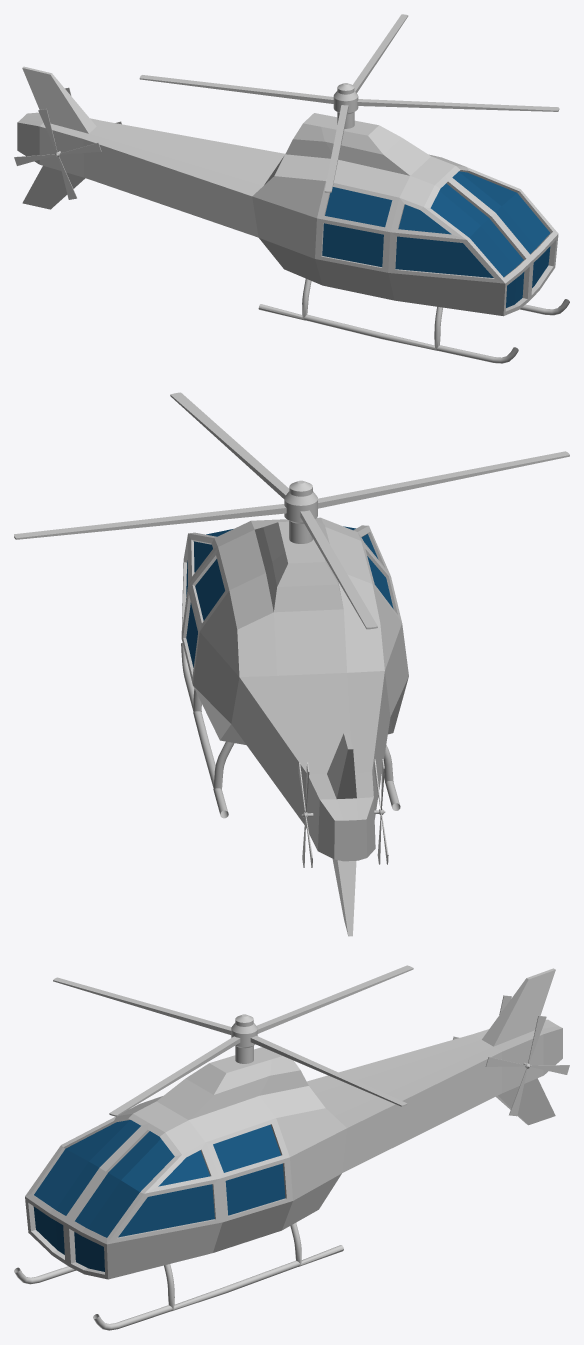
File: helicopter_animation_000100.obj
3 views of the same model, one above another, from view 1: azimuth 30°, elevation 25°; view 2: azimuth 150°, elevation 25°; view 3: azimuth 270°, elevation 25° (orthographic). The views are drawn at different scales.
Visible parts, largest first — view 1: Helicopter.007_Cylinder.008, Helicopter.001_Cylinder.001, Helicopter.004_Cylinder.005; view 2: Helicopter.007_Cylinder.008, Helicopter.001_Cylinder.001; view 3: Helicopter.007_Cylinder.008, Helicopter.001_Cylinder.001, Helicopter.003_Cylinder.004.
Boxes of the visible parts, x1=… form: Helicopter.007_Cylinder.008: x1=17, y1=66, x2=569, y2=363; Helicopter.001_Cylinder.001: x1=139, y1=14, x2=559, y2=192; Helicopter.004_Cylinder.005: x1=14, y1=108, x2=101, y2=199; Helicopter.007_Cylinder.008: x1=181, y1=517, x2=408, y2=936; Helicopter.001_Cylinder.001: x1=14, y1=392, x2=569, y2=629; Helicopter.007_Cylinder.008: x1=14, y1=968, x2=562, y2=1330; Helicopter.001_Cylinder.001: x1=53, y1=965, x2=413, y2=1116; Helicopter.003_Cylinder.004: x1=485, y1=1015, x2=569, y2=1116.
Bounding box in the file's own units: 5.33 × 3.2 × 6.74.
